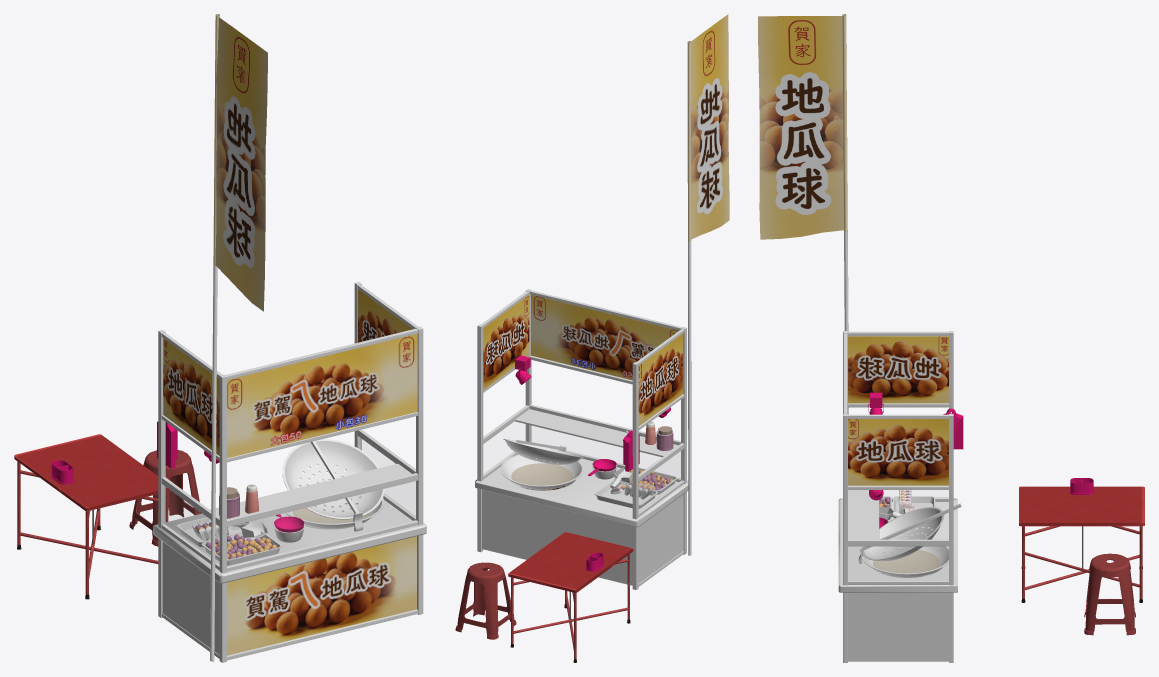
The model's file is DGCStaion.fbx.
The picture shows the model from 3 angles, left to right: view 1: azimuth 30°, elevation 25°; view 2: azimuth 150°, elevation 25°; view 3: azimuth 270°, elevation 25°; orthographic projection. The views are drawn at different scales.
Parts seen in each view (by area): view 1: Frame.002, Frame, Flag, Table, Frame.001, Pot, Chair, DGC.002, IronPlate, Glass; view 2: Frame.002, Frame, Flag, Table, Frame.001, Pot, Chair, Oil, IronPlate.001; view 3: Frame.002, Flag, Frame, Table, Pot, Frame.001, Chair, Oil.
Part boxes in pixels (x1,y1,x2,y2): Frame.002: (162,289,417,655); Frame: (158,282,423,662); Flag: (210,14,267,661); Table: (14,434,170,599); Frame.001: (153,500,426,583); Pot: (282,439,384,531); Chair: (129,450,201,546); DGC.002: (205,534,276,559); IronPlate: (201,531,282,565); Glass: (384,481,415,516); Frame.002: (482,294,683,585); Frame: (477,289,686,589); Flag: (687,14,729,555); Table: (508,532,633,662); Frame.001: (475,458,688,527); Pot: (500,439,584,489); Chair: (455,562,516,639); Oil: (511,463,572,485); IronPlate.001: (594,480,658,508); Frame.002: (848,336,948,659); Flag: (758,14,848,414); Frame: (843,331,953,662); Table: (1019,486,1144,602); Pot: (858,503,961,577); Frame.001: (838,498,957,592); Chair: (1084,553,1135,635); Oil: (873,550,940,572).
Size of the model in its own units: 244 by 642 by 398.
